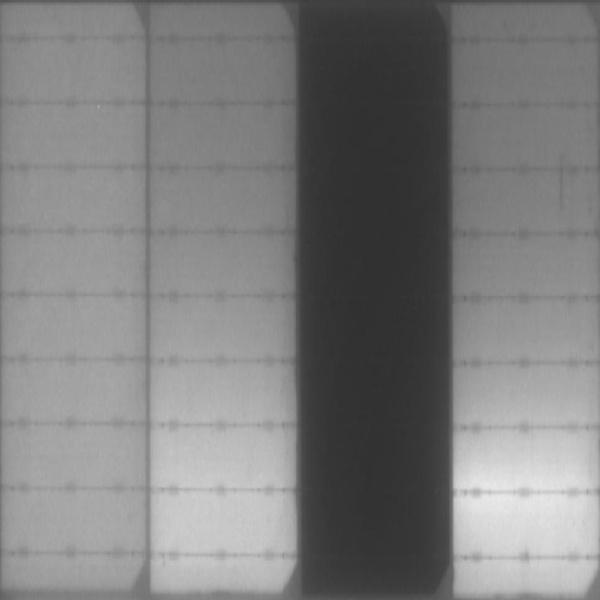no_electricity: (299, 1, 455, 598)
